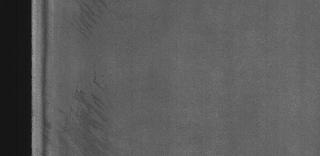water spot: (51, 76, 116, 156), (70, 4, 128, 38)
